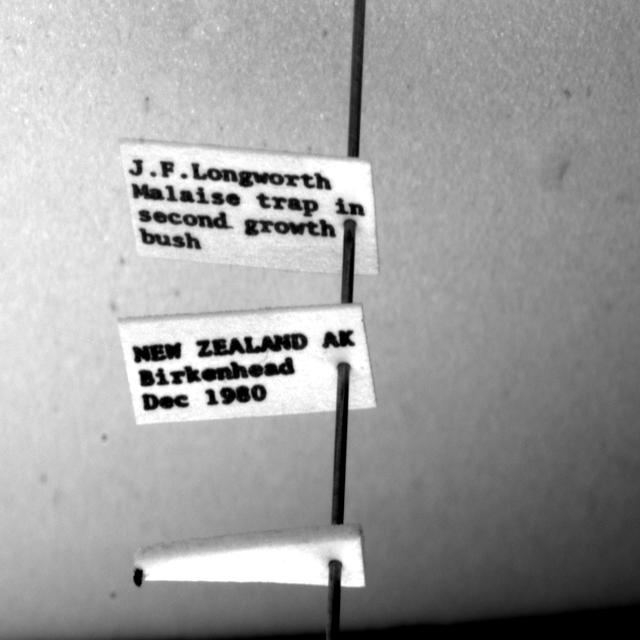typed_label: (121, 141, 379, 274), (119, 304, 376, 424)
